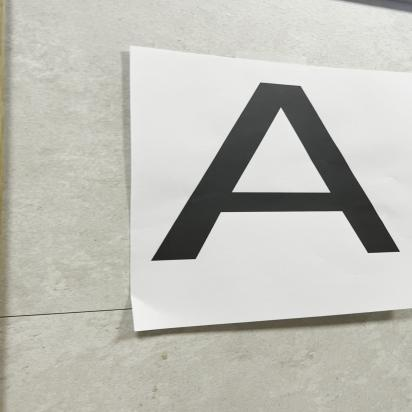seat: (137, 73, 412, 291)
